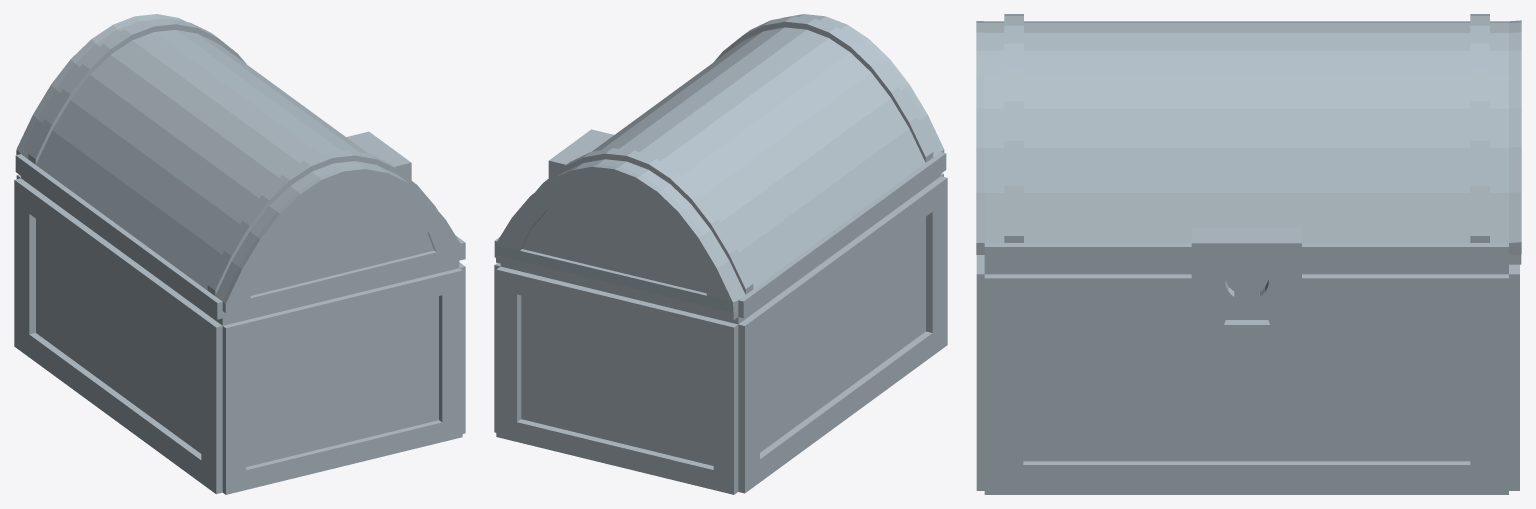
Rendered from cofre.obj.
3 renders of one model, left to right at view 1: azimuth 30°, elevation 25°; view 2: azimuth 150°, elevation 25°; view 3: azimuth 270°, elevation 25°, orthographic. The views are drawn at different scales.
Visible parts, largest first — view 1: Cube_Cube.001; view 2: Cube_Cube.001; view 3: Cube_Cube.001.
Part boxes in pixels (bbox=[...]): Cube_Cube.001: bbox=[14, 14, 465, 494]; Cube_Cube.001: bbox=[494, 14, 947, 494]; Cube_Cube.001: bbox=[976, 14, 1521, 494].
Size of the model in its own units: 3.45 by 3.6 by 4.56.
